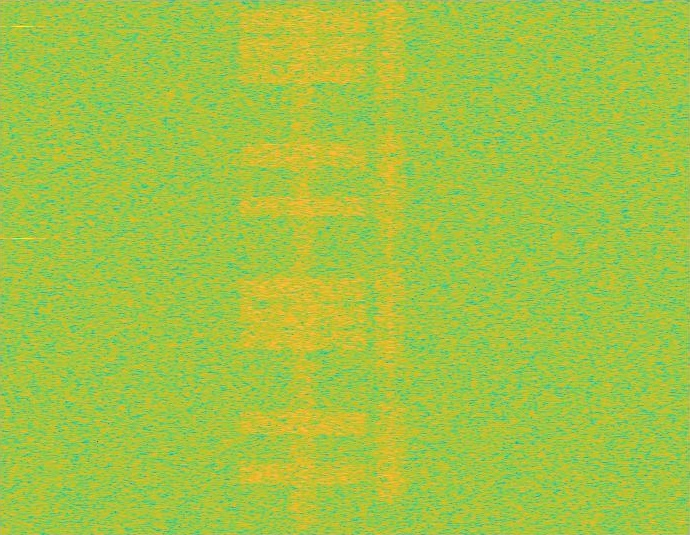5G: (373, 0, 408, 534)
DSSS: (287, 0, 318, 534), (386, 0, 394, 534)
LTE: (234, 0, 372, 534)
Radar: (16, 0, 30, 534)
